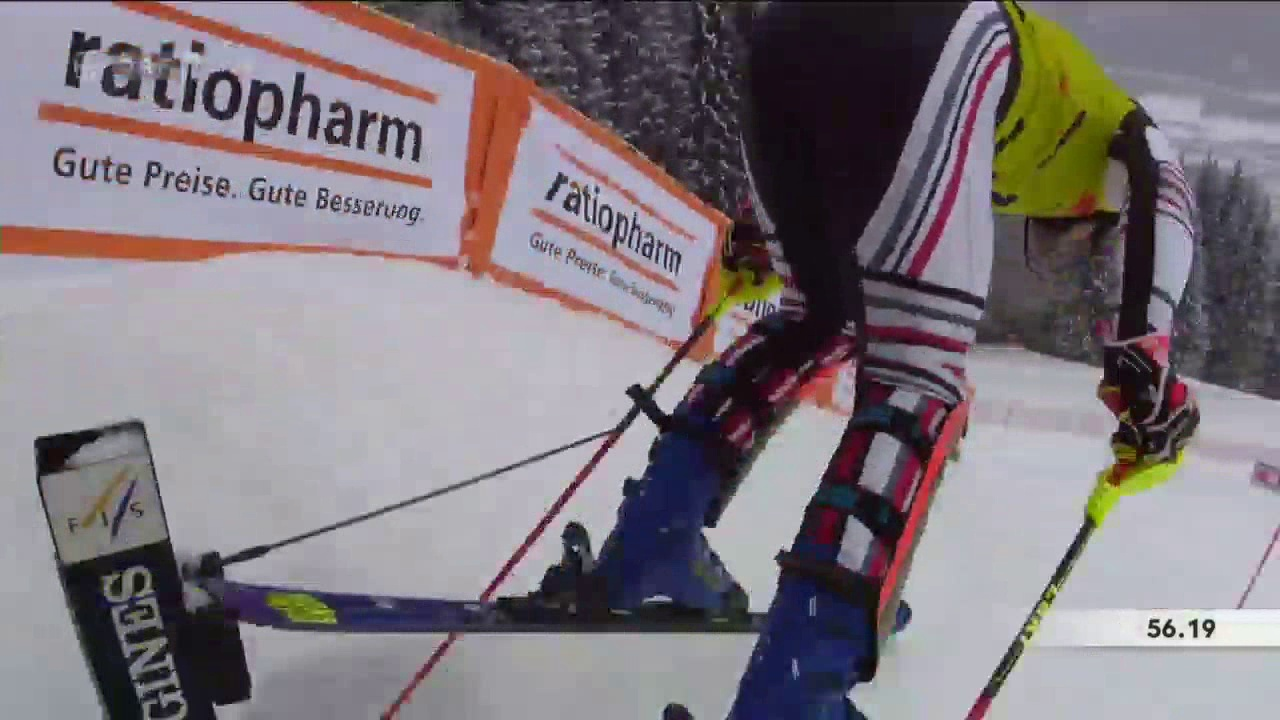ratiopharm: (523, 155, 695, 311)
